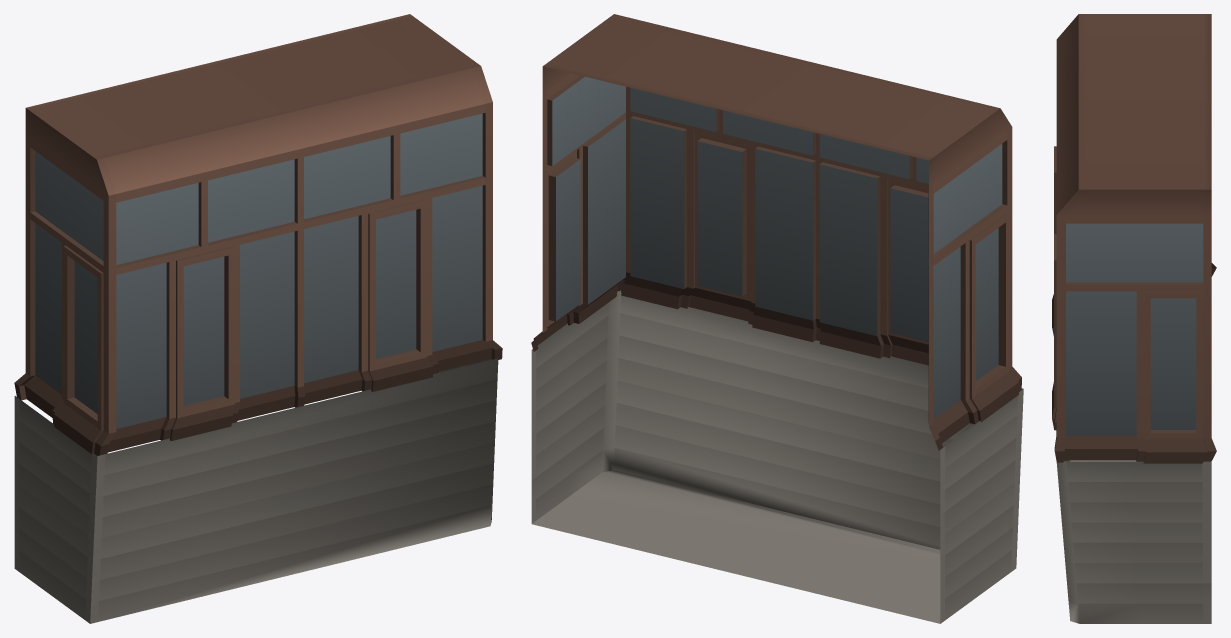
File: ClosedBalcon3.fbx
3 views of the same model, side by side, from view 1: azimuth 30°, elevation 25°; view 2: azimuth 150°, elevation 25°; view 3: azimuth 270°, elevation 25° (orthographic). The views are drawn at different scales.
Visible parts, largest first — view 1: Cube.001; view 2: Cube.001; view 3: Cube.001.
Part boxes in pixels (x1,y1,x2,y2): Cube.001: (14,14,502,623); Cube.001: (531,14,1023,623); Cube.001: (1052,14,1216,623).
Bounding box in the file's own units: 6.78 × 2.54 × 7.29.
